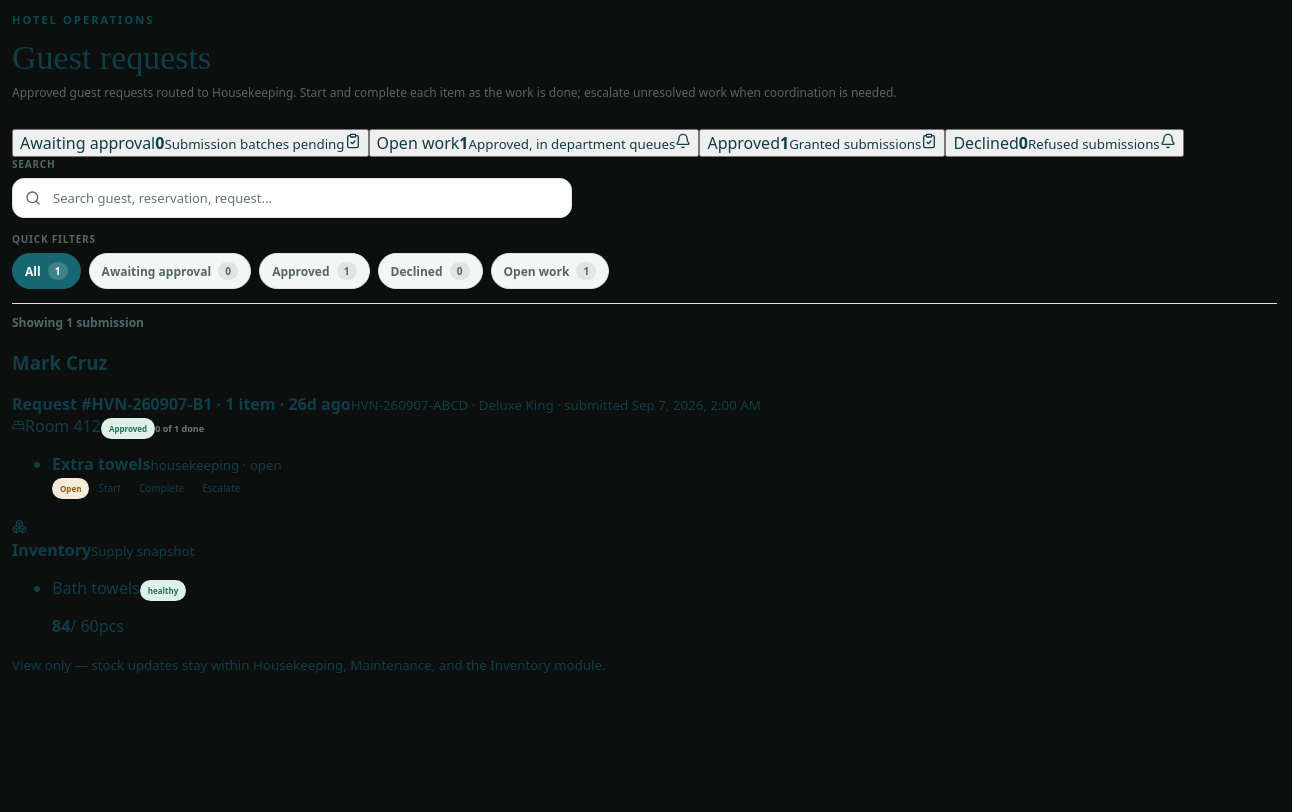
Scenario: GuestRequestsPanel render layer › starts and completes the owning department's items through the progress route
Click the button "Start" at point(110, 488), box [89, 475, 130, 501]
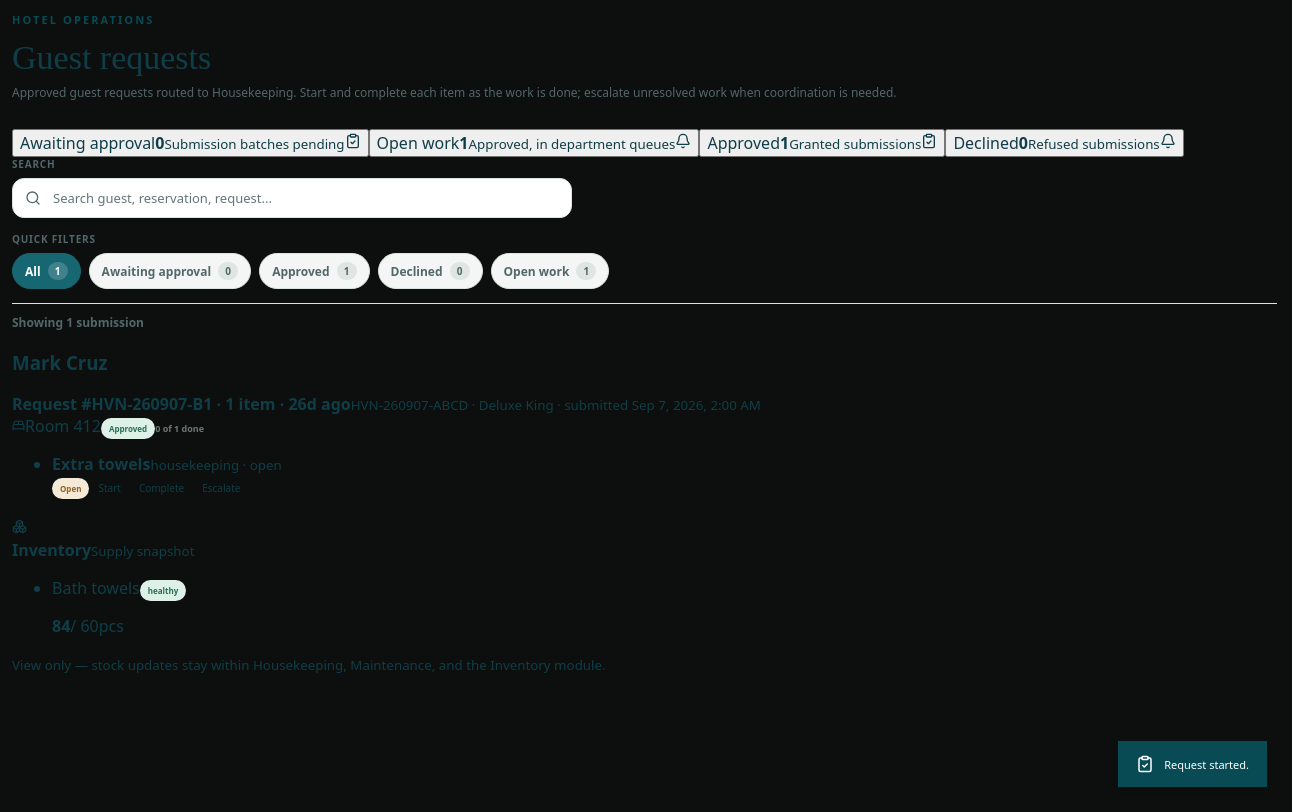
Check: the text "Request started." is shown, box [1118, 741, 1267, 787]
